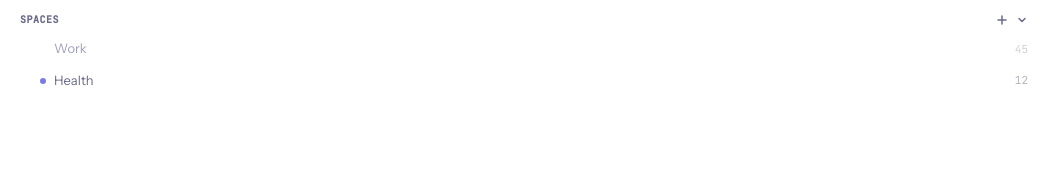
SpaceList › shows context menu on right-click
The image size is (1048, 172).
Step 1. Right-click the text "work" → (70, 48), box [54,40,87,56]
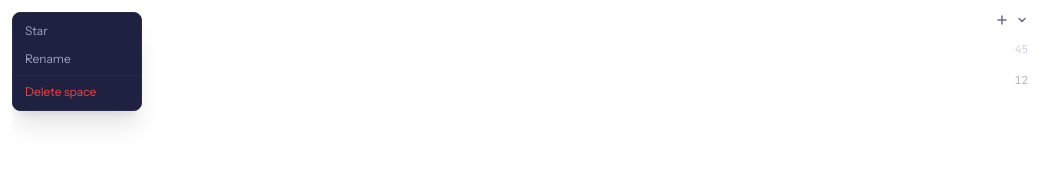
Check: the button "Rename" is shown, box [13,45,141,73]
Check: the button "Delete space" is shown, box [13,78,141,106]
